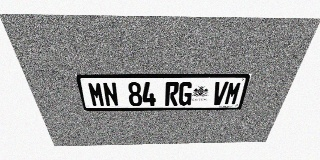4: (142, 82, 156, 106)
8: (127, 82, 142, 106)
G: (178, 82, 193, 106)
M: (87, 82, 106, 107), (224, 81, 243, 105)
N: (102, 82, 119, 106)
R: (165, 82, 179, 106)
V: (211, 82, 229, 105)
